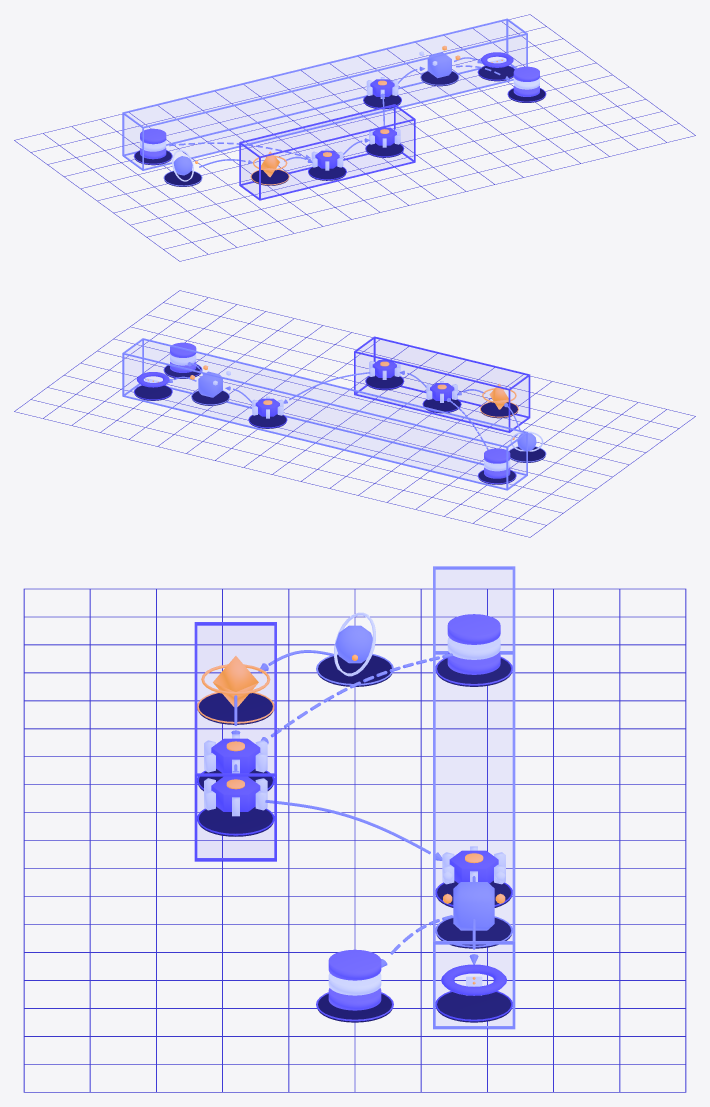
Rendered from docker.glb.
3 views of the same model, one above another, from view 1: azimuth 30°, elevation 25°; view 2: azimuth 150°, elevation 25°; view 3: azimuth 270°, elevation 25° (orthographic). The views are drawn at different scales.
Visible parts, largest first — view 1: floor, group_Host_kernel, group_Docker_engine, mesh_container_core, mesh_bridge_pad, mesh_cli_pad, mesh_containerd_pad, mesh_runc_pad, mesh_dockerd_pad, mesh_container_pad; view 2: floor, group_Host_kernel, group_Docker_engine, mesh_container_core, mesh_bridge_pad, mesh_ns_cg_pad, mesh_runc_pad, mesh_dockerd_pad, mesh_cli_pad; view 3: floor, group_Host_kernel, group_Docker_engine, mesh_container_core, mesh_bridge_pad, mesh_dockerd_pad, mesh_runc_pad, mesh_cli_pad, mesh_volume_disc2, mesh_layers_disc2, mesh_bridge_ring, mesh_container_pad (+11 smaller).
Boxes of the visible parts, bbox=[...] form: floor: bbox=[14, 14, 695, 261]; group_Host_kernel: bbox=[122, 18, 527, 170]; group_Docker_engine: bbox=[239, 104, 415, 200]; mesh_container_core: bbox=[427, 52, 451, 78]; mesh_bridge_pad: bbox=[478, 66, 514, 81]; mesh_cli_pad: bbox=[164, 171, 201, 186]; mesh_containerd_pad: bbox=[309, 166, 345, 180]; mesh_runc_pad: bbox=[366, 143, 403, 157]; mesh_dockerd_pad: bbox=[251, 170, 288, 185]; mesh_container_pad: bbox=[421, 71, 458, 86]; floor: bbox=[14, 290, 695, 537]; group_Host_kernel: bbox=[122, 338, 527, 490]; group_Docker_engine: bbox=[354, 336, 530, 432]; mesh_container_core: bbox=[198, 371, 222, 397]; mesh_bridge_pad: bbox=[134, 385, 171, 400]; mesh_ns_cg_pad: bbox=[249, 414, 286, 428]; mesh_runc_pad: bbox=[366, 375, 403, 390]; mesh_dockerd_pad: bbox=[481, 402, 517, 418]; mesh_cli_pad: bbox=[509, 447, 545, 462]; floor: bbox=[23, 588, 686, 1092]; group_Host_kernel: bbox=[433, 566, 515, 1029]; group_Docker_engine: bbox=[194, 622, 276, 861]; mesh_container_core: bbox=[453, 882, 494, 930]; mesh_bridge_pad: bbox=[436, 992, 511, 1022]; mesh_dockerd_pad: bbox=[198, 693, 273, 724]; mesh_runc_pad: bbox=[198, 806, 273, 836]; mesh_cli_pad: bbox=[318, 655, 391, 686]; mesh_volume_disc2: bbox=[328, 949, 381, 980]; mesh_layers_disc2: bbox=[447, 614, 500, 644]; mesh_bridge_ring: bbox=[441, 964, 506, 995]; mesh_container_pad: bbox=[436, 918, 511, 948].
Size of the model in its own units: 36.03 by 2.91 by 20.03.
